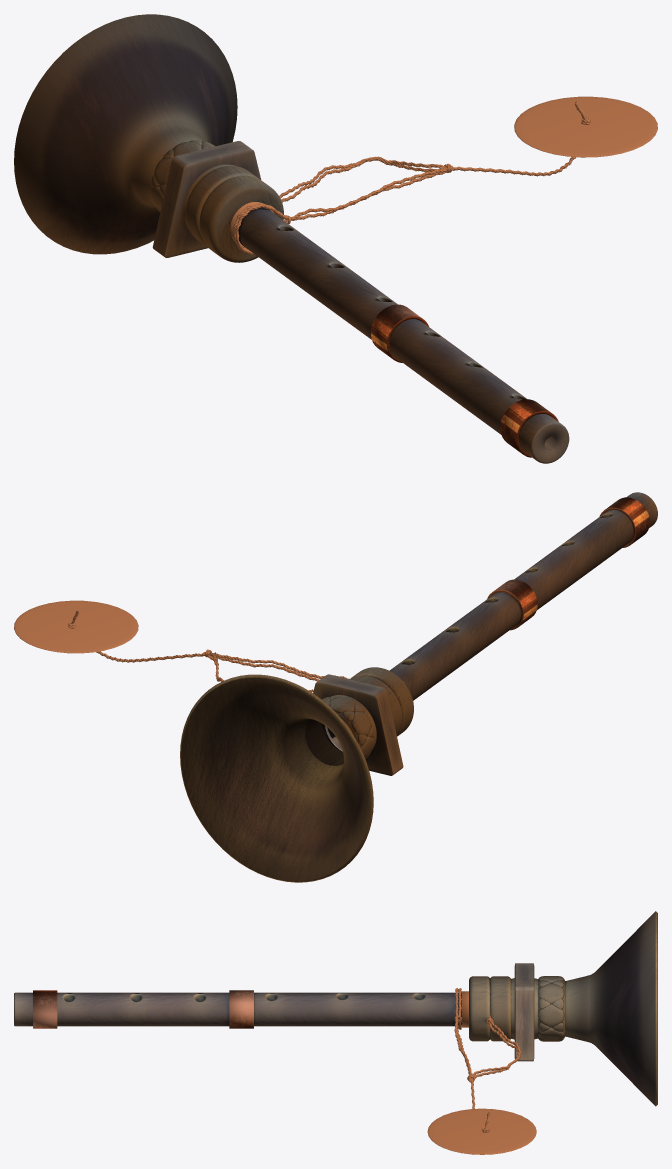
The model's file is IRULA_Kohaal.glb.
3 views of the same model, one above another, from view 1: azimuth 30°, elevation 25°; view 2: azimuth 150°, elevation 25°; view 3: azimuth 270°, elevation 25° (orthographic). The views are drawn at different scales.
Parts seen in each view (by area): view 1: trumpethead, pipe, Bell, Cube, rope3, ring2.001, ring2, rope2; view 2: trumpethead, pipe, Bell, Cube, ring2, ring2.001, rope3; view 3: trumpethead, pipe, Bell, Cube, ring2, ring2.001, rope2, rope3.
Part boxes in pixels (x1,y1,x2,y2): trumpethead: (14,14,283,262); pipe: (238,207,569,463); Bell: (514,96,657,157); Cube: (152,141,261,257); rope3: (233,167,454,254); ring2.001: (500,399,558,457); ring2: (371,304,428,362); rope2: (279,156,452,202); trumpethead: (180,667,413,882); pipe: (389,492,657,700); Bell: (14,600,138,653); Cube: (313,674,403,775); ring2: (487,579,537,630); ring2.001: (599,497,649,547); rope3: (204,652,404,682); trumpethead: (469,911,657,1106); pipe: (14,992,461,1026); Bell: (427,1108,536,1154); Cube: (514,963,534,1061); ring2: (229,990,253,1028); ring2.001: (33,990,57,1028); rope2: (472,1014,521,1081); rope3: (454,988,471,1082).
Size of the model in its own units: 0.145 by 0.0624 by 0.2051.
6 materials, 4 textured.
